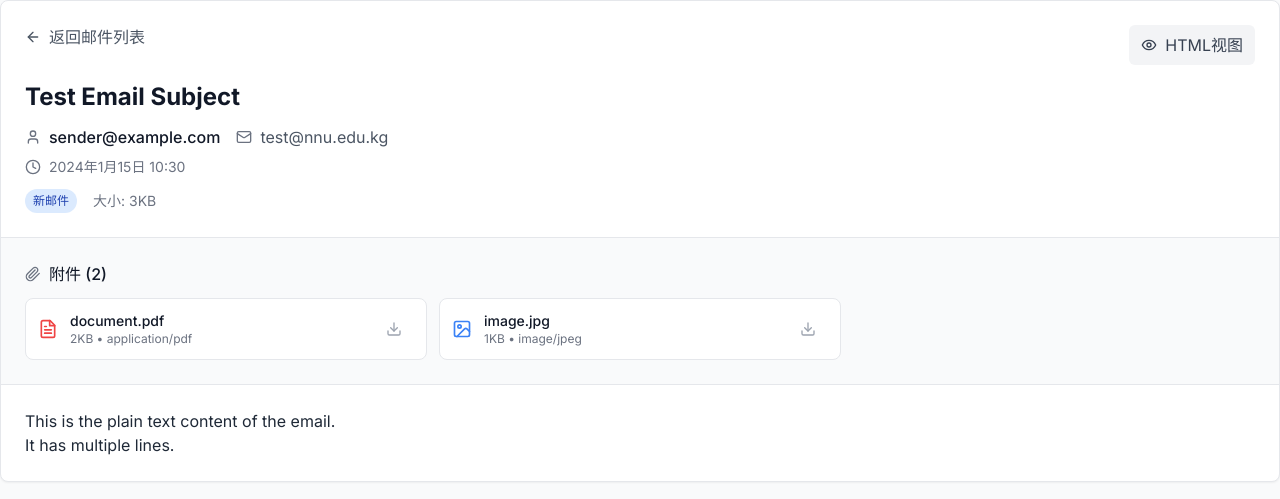
Test: MailContent › toggles between text and HTML view
The width and height of the screenshot is (1280, 499).
Check: the text "This is the plain text content" is shown, box [25,411,335,455]
Note: Click HTML view button
Click the button "HTML视图": (1192, 45) [1129,25,1255,65]
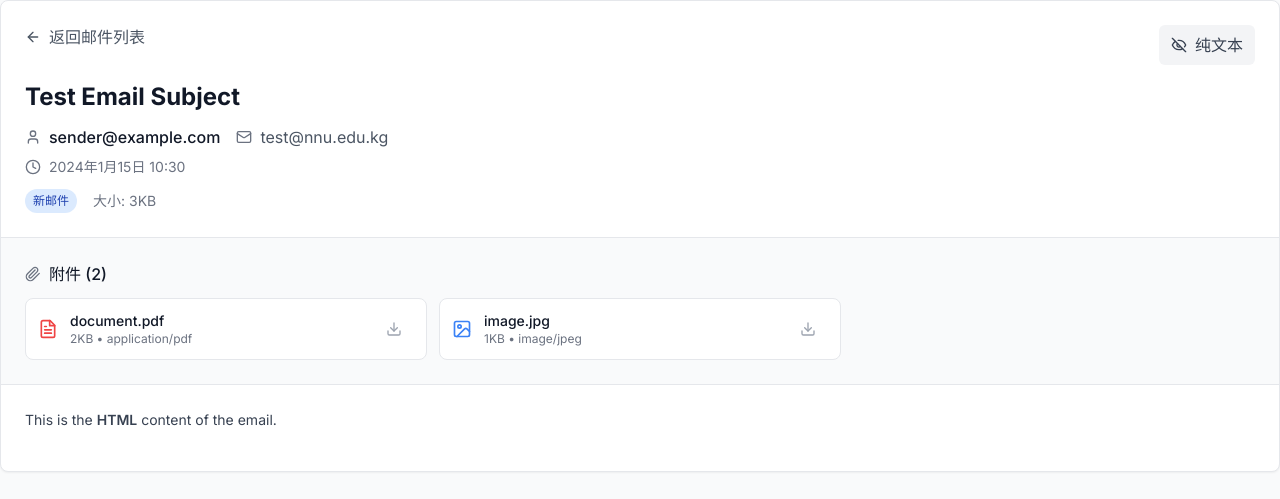
Check: the text "This is the HTML content of the email." is shown, box [25,411,277,428]
Check: the text "纯文本" is shown, box [1195,33,1243,57]
Note: Click back to text view
Click the button "纯文本": (1207, 45) [1159,25,1255,65]
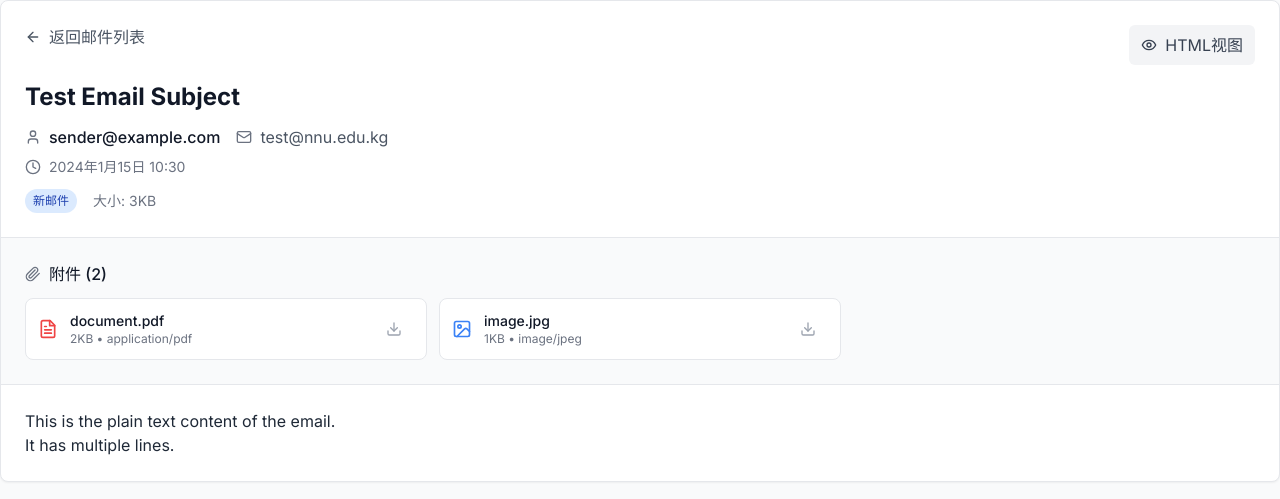
Check: the text "This is the plain text content" is shown, box [25,411,335,455]
Check: the text "HTML视图" is shown, box [1165,33,1243,57]
